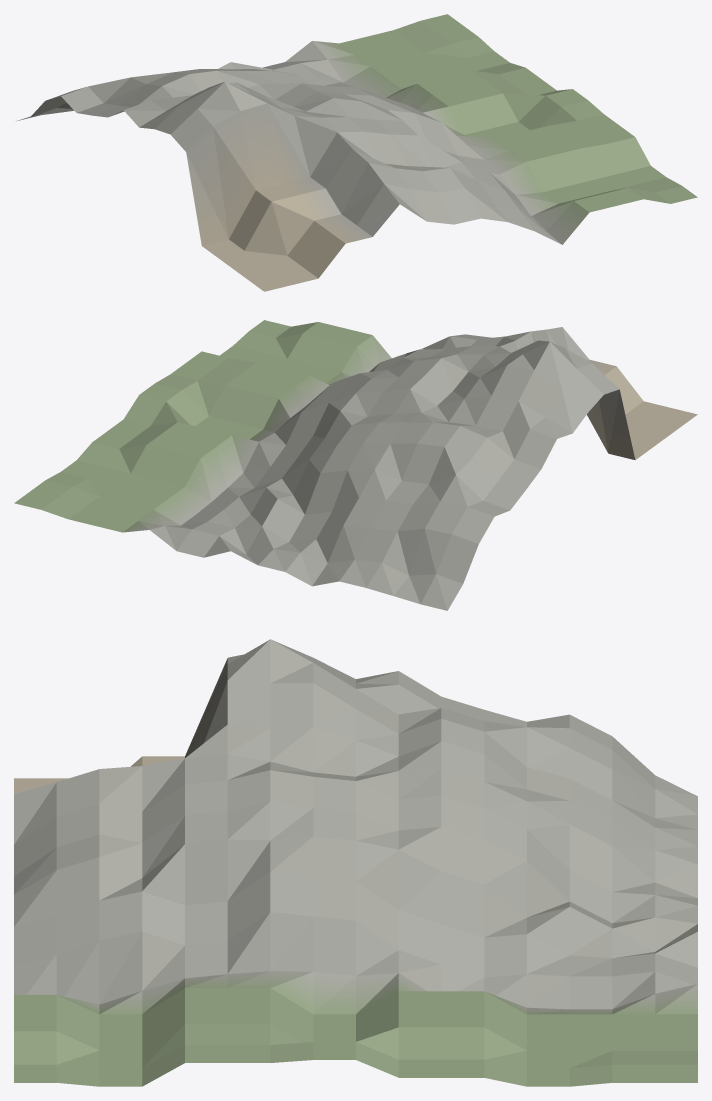
The picture shows the model from 3 angles, top to bottom: view 1: azimuth 30°, elevation 25°; view 2: azimuth 150°, elevation 25°; view 3: azimuth 270°, elevation 25°; orthographic projection. The views are drawn at different scales.
Bounding box in the file's own units: 32 × 10.88 × 32.
